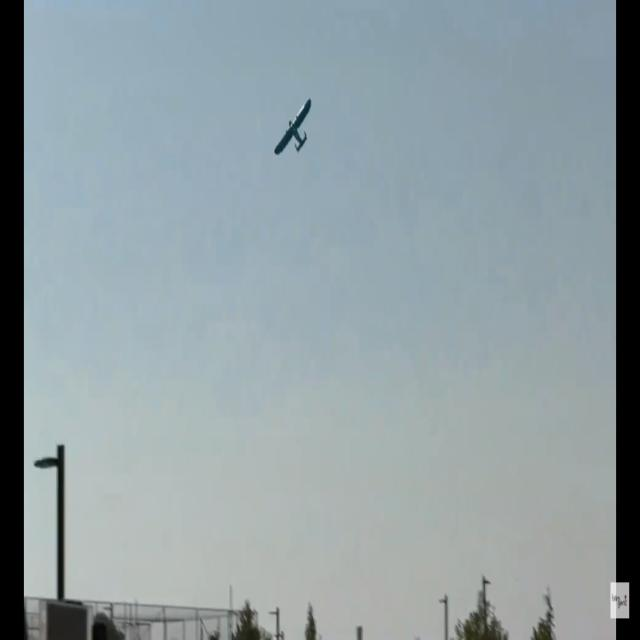iha: (272, 30, 314, 93)
